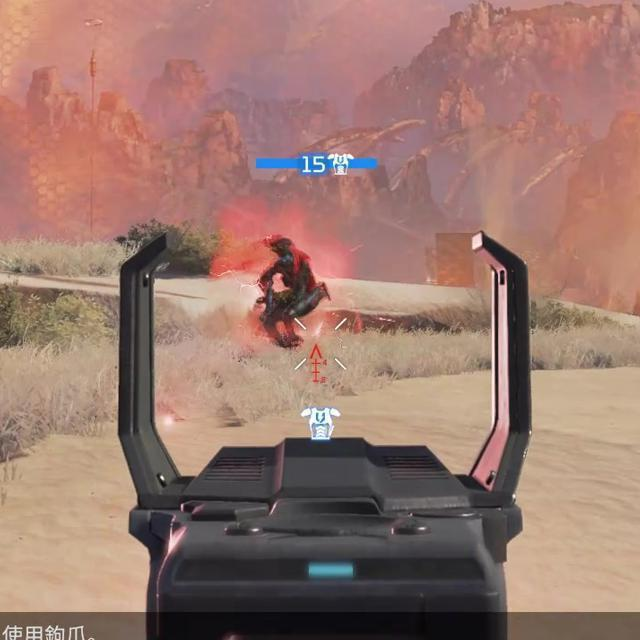avatar: (253, 235, 328, 352)
